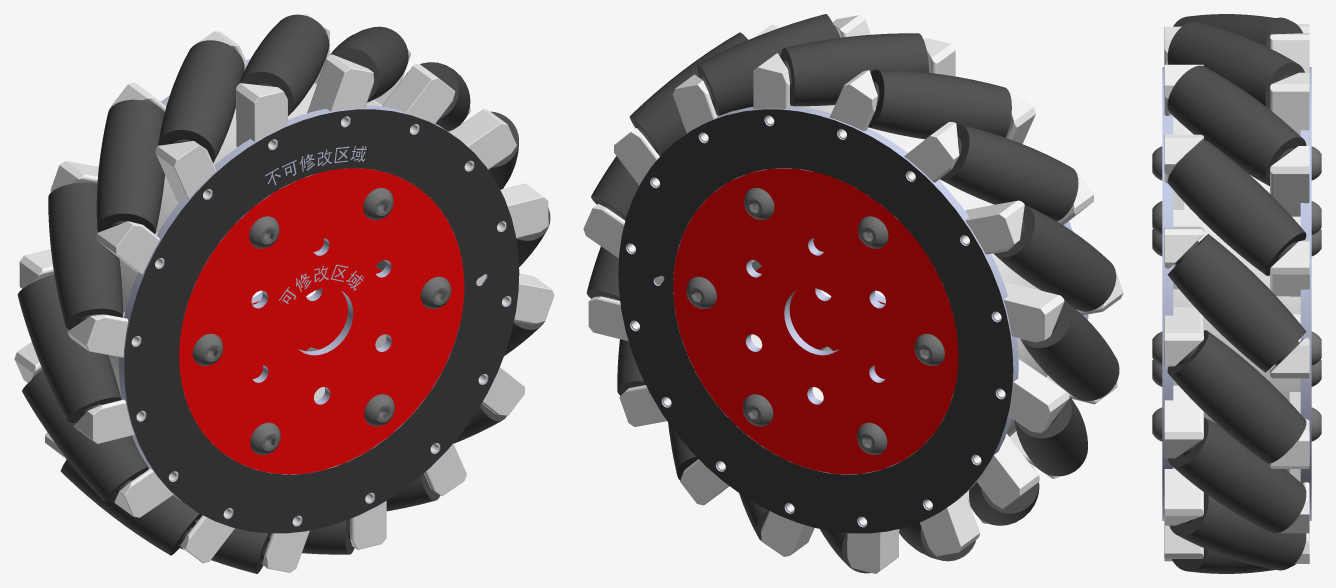
File: HEXROLL_16-D154 v1.fbx
The picture shows the model from 3 angles, left to right: view 1: azimuth 30°, elevation 25°; view 2: azimuth 150°, elevation 25°; view 3: azimuth 270°, elevation 25°; orthographic projection.
Visible parts, largest first — view 1: Body2, Body1, Body31, Body30, Body32, Body29, Body33, Body28, Body34, Body22, Body27, Body35 (+11 smaller); view 2: Body22, Body1, Body29, Body30, Body31, Body28, Body32, Body27, Body33, Body2, Body26, Body25 (+11 smaller); view 3: Body1, Body25, Body26, Body24, Body27, Body23, Body28, Body3, Body2, Body22, Body29, Body37 (+12 smaller).
Boxes of the visible parts, x1,y1,x2,y2 form: Body2: (118, 105, 519, 533); Body1: (14, 14, 554, 572); Body31: (48, 182, 122, 329); Body30: (96, 99, 164, 233); Body32: (17, 274, 121, 422); Body29: (158, 40, 244, 162); Body33: (22, 370, 148, 501); Body28: (240, 14, 329, 115); Body34: (60, 458, 202, 555); Body22: (98, 59, 381, 378); Body27: (330, 26, 408, 102); Body35: (180, 528, 271, 573); Body22: (618, 106, 1018, 533); Body1: (583, 15, 1123, 573); Body29: (868, 69, 1011, 139); Body30: (940, 124, 1078, 221); Body31: (993, 205, 1116, 311); Body28: (780, 33, 929, 106); Body32: (1020, 300, 1119, 400); Body27: (697, 14, 840, 115); Body33: (1014, 396, 1087, 476); Body2: (756, 221, 1088, 378); Body26: (629, 32, 748, 156); Body25: (591, 156, 639, 220); Body1: (1164, 24, 1309, 563); Body25: (1167, 234, 1306, 372); Body26: (1167, 140, 1306, 275); Body24: (1167, 330, 1306, 463); Body27: (1167, 65, 1306, 185); Body23: (1167, 417, 1306, 533); Body28: (1167, 21, 1304, 109); Body3: (1169, 492, 1306, 570); Body2: (1162, 67, 1173, 520); Body22: (1300, 67, 1311, 520); Body29: (1173, 14, 1302, 48); Body37: (1172, 548, 1295, 573).
Size of the model in its own units: 154 by 154 by 46.5.
